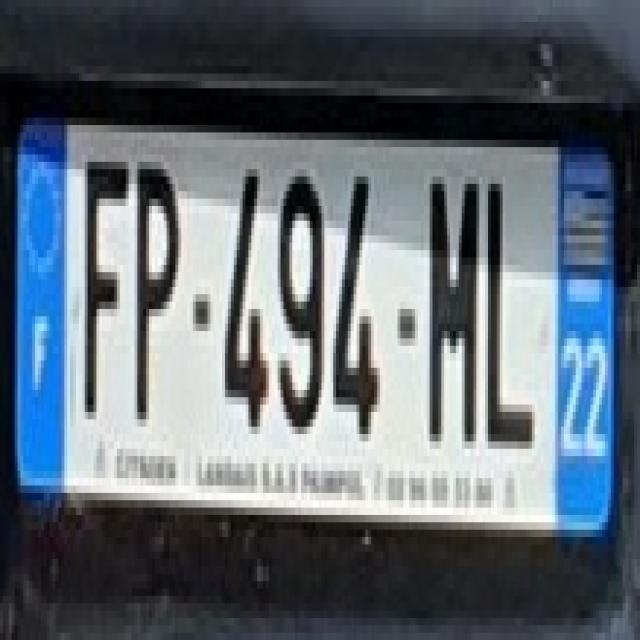EU: (8, 117, 617, 538)
France: (12, 126, 65, 502)
